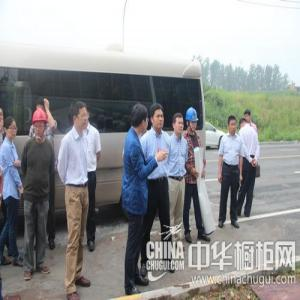blue: (185, 107, 200, 134)
none: (130, 102, 149, 134), (150, 100, 167, 133), (73, 102, 90, 130), (3, 116, 20, 142), (172, 113, 186, 136), (227, 116, 238, 136), (239, 117, 248, 132), (245, 109, 252, 123)
red: (32, 108, 49, 140)
